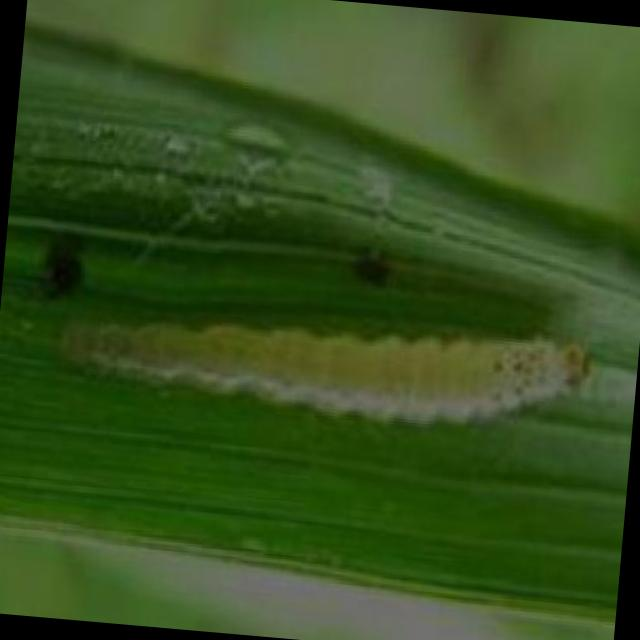leaf-folder: (23, 248, 616, 469)
